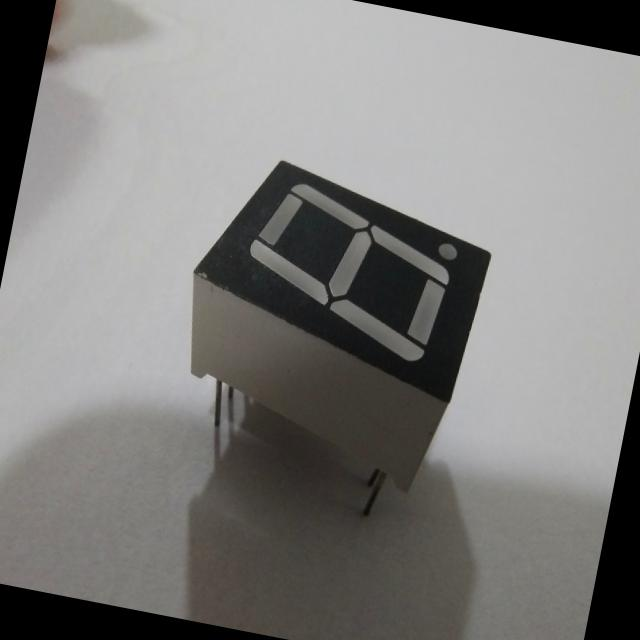7_segments: (151, 128, 519, 542)
